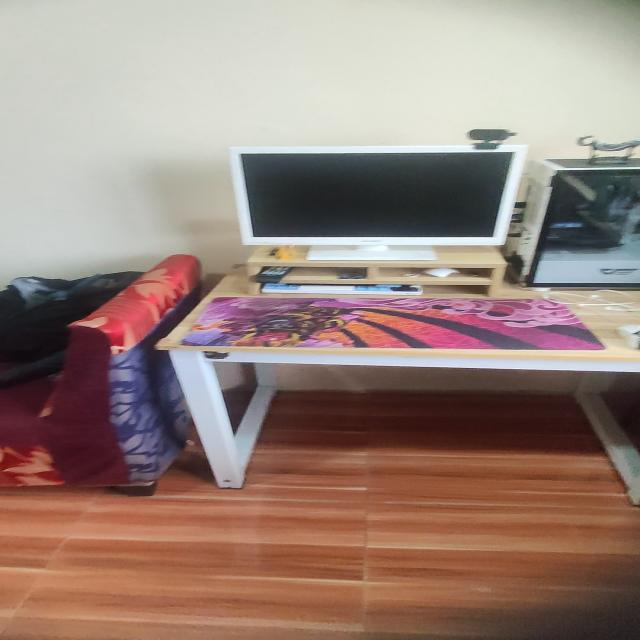table: (163, 264, 640, 498)
